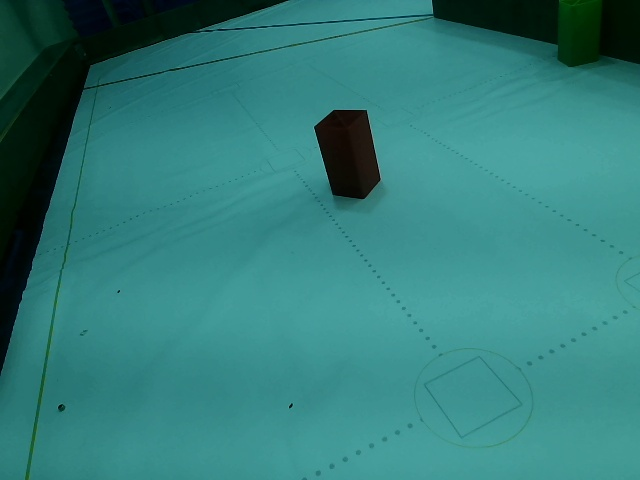red: (316, 115, 376, 201)
